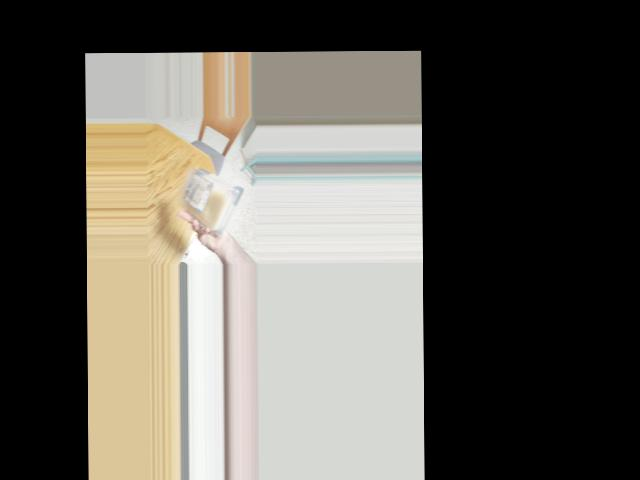cheese: (182, 170, 232, 230)
